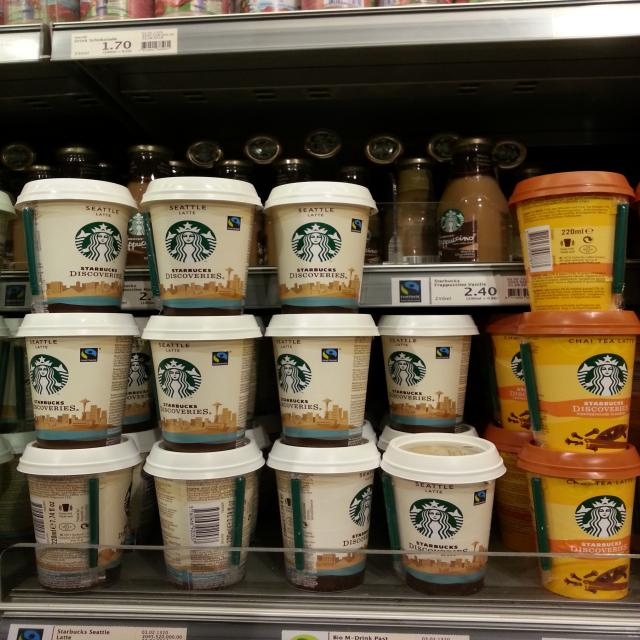Coffee: (380, 432, 508, 593), (16, 435, 142, 595), (519, 440, 640, 602), (145, 437, 265, 592), (511, 168, 640, 308), (515, 309, 640, 453), (267, 438, 383, 593), (137, 313, 263, 454), (14, 174, 138, 314), (140, 175, 264, 314), (260, 310, 382, 450), (18, 314, 139, 448), (262, 178, 376, 312), (377, 310, 481, 433), (435, 133, 510, 264)
